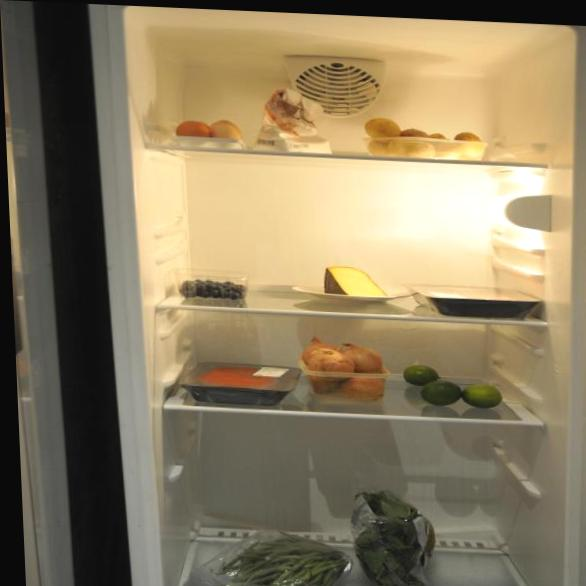beef: (189, 358, 283, 404)
blueberries: (175, 273, 249, 303)
cheese: (323, 265, 387, 301)
eggs: (172, 116, 249, 152)
flour: (251, 85, 334, 154)
green_beans: (210, 526, 345, 586)
lime: (401, 361, 509, 411)
onion: (298, 339, 394, 409)
potato: (364, 115, 490, 163)
spinach: (349, 481, 432, 586)
